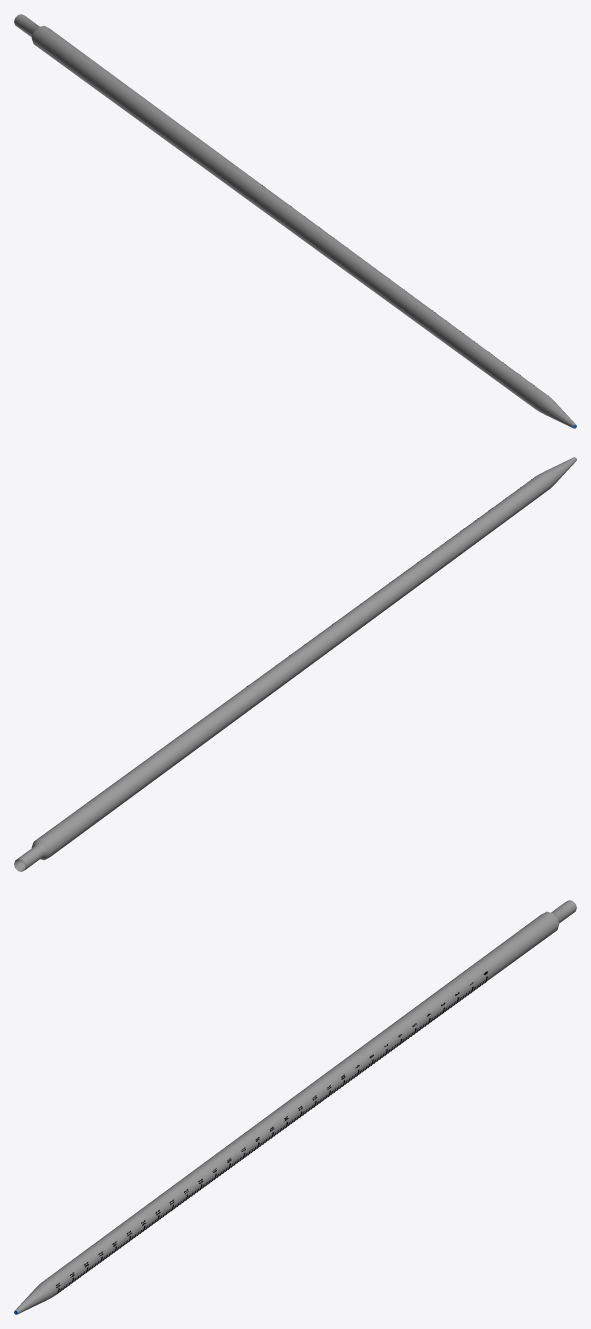
Rendered from SM_移液管_003.fbx.
3 renders of one model, top to bottom at view 1: azimuth 30°, elevation 25°; view 2: azimuth 150°, elevation 25°; view 3: azimuth 330°, elevation 25°, orthographic.
Visible parts, largest first — view 1: SM_移液管_003; view 2: SM_移液管_003; view 3: SM_移液管_003.
Boxes of the visible parts, x1=… form: SM_移液管_003: x1=14, y1=14, x2=576, y2=428; SM_移液管_003: x1=14, y1=457, x2=576, y2=871; SM_移液管_003: x1=14, y1=900, x2=576, y2=1314.
Size of the model in its own units: 0.00503 by 0.00474 by 0.2446.
